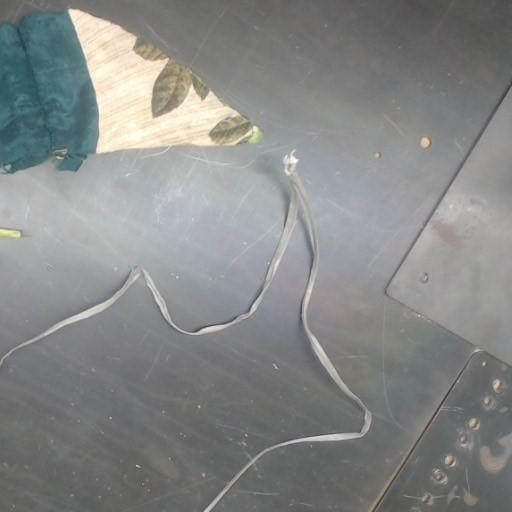cloth: (0, 9, 258, 171)
conveyor belt: (0, 0, 511, 511), (0, 226, 360, 511)
thread: (203, 151, 371, 511), (0, 266, 270, 366)
